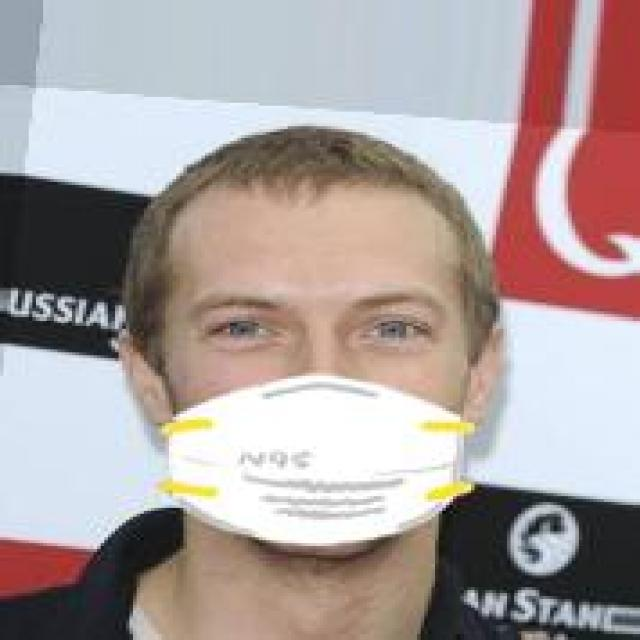mask: (76, 82, 522, 558)
